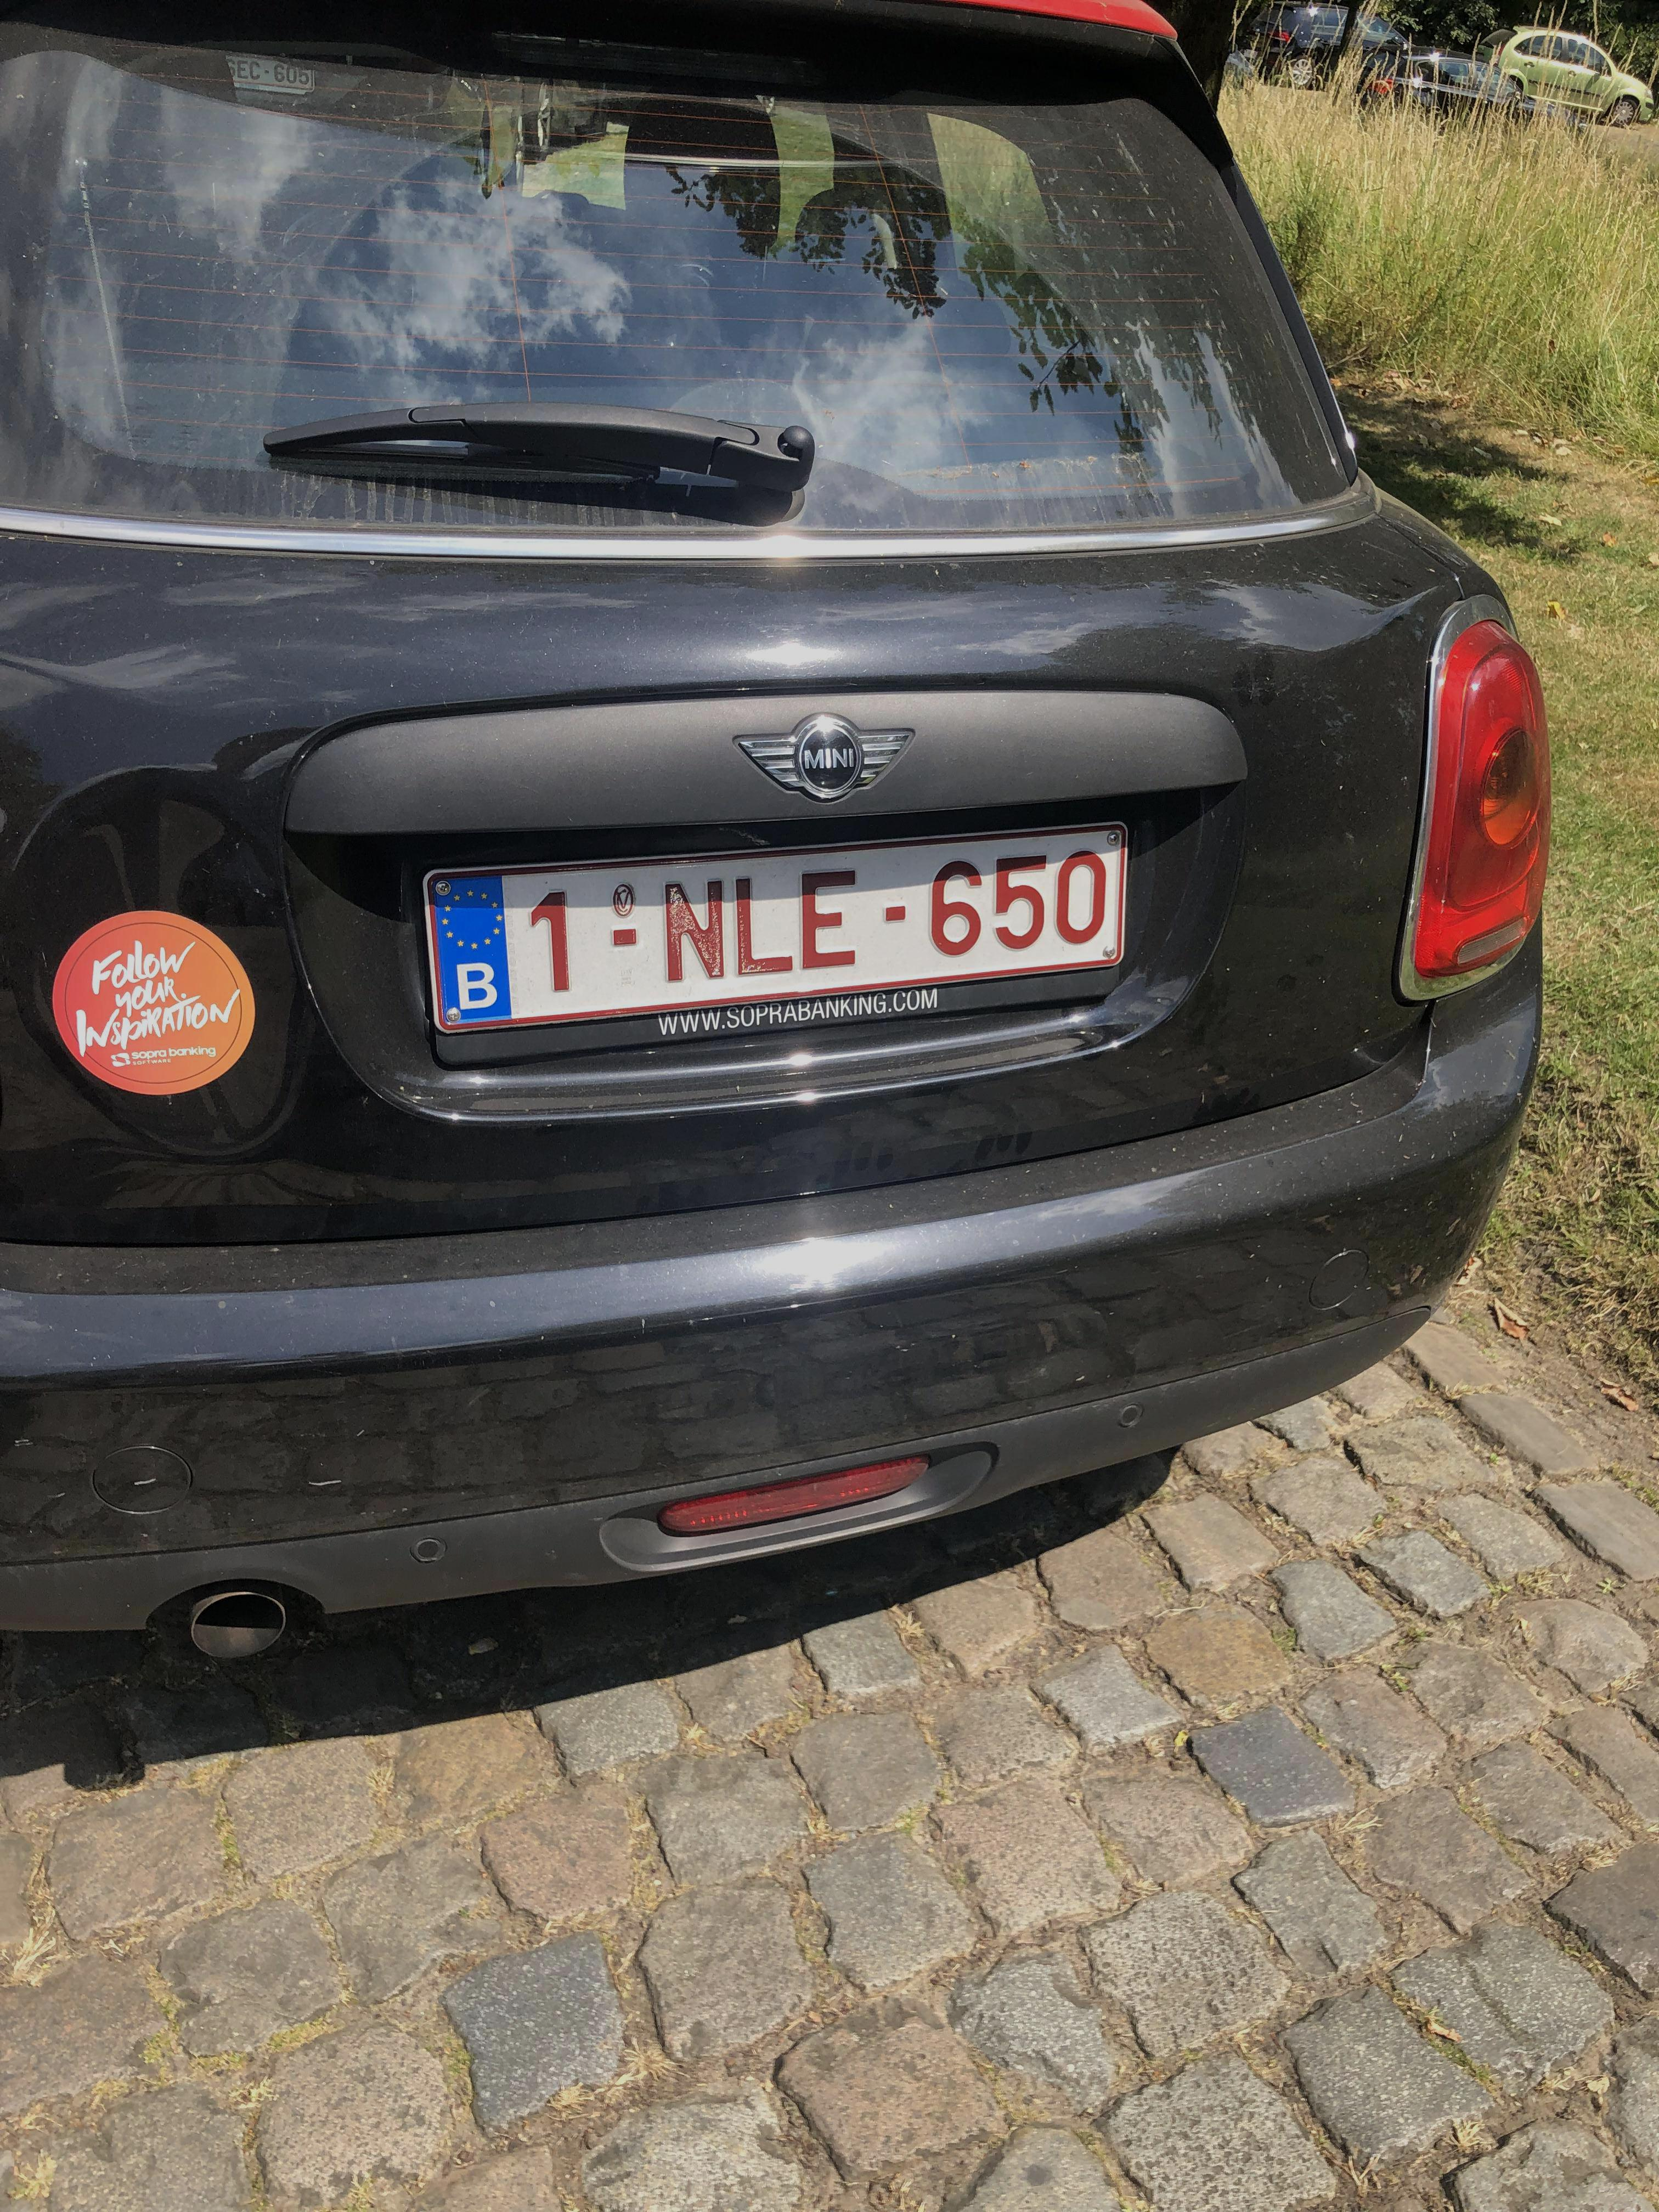plate: (398, 787, 1155, 1050)
